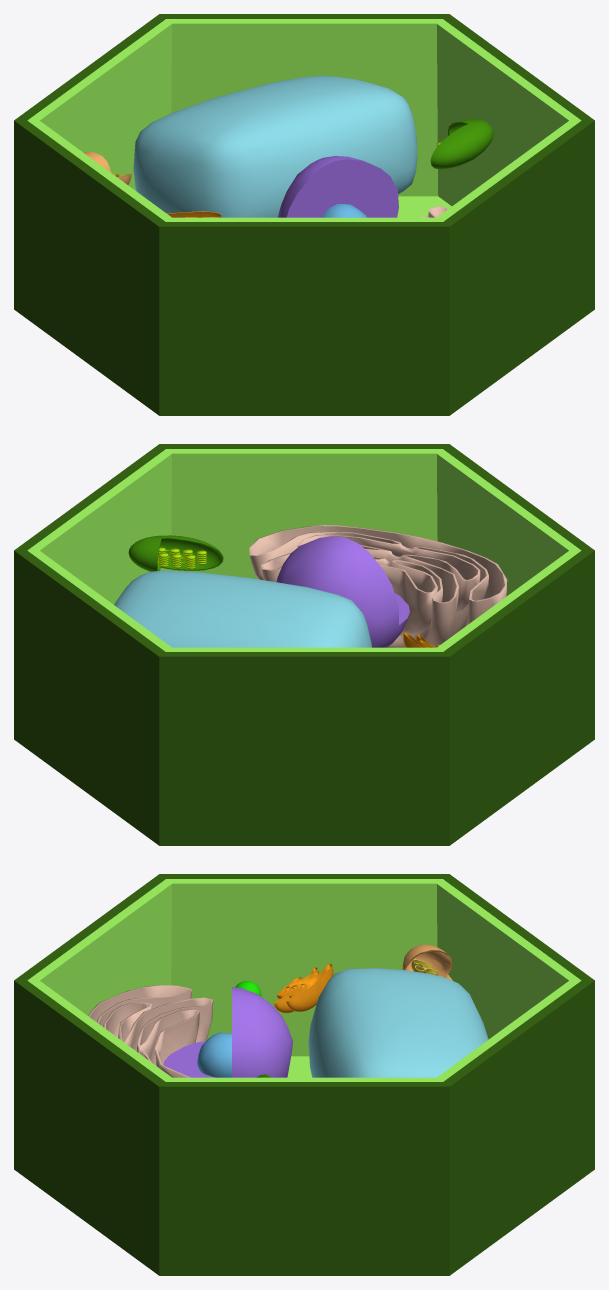
The model's file is SANTIAGO_AMORES_CEL.LULA_VEGETAL.fbx.
3 views of the same model, one above another, from view 1: azimuth 30°, elevation 25°; view 2: azimuth 150°, elevation 25°; view 3: azimuth 270°, elevation 25° (orthographic).
Visible parts, largest first — view 1: PARED CELULAR, MEMBRANA CELULAR, FUNDA GAFAS, NÚCLEO, CLOROPLASTO; view 2: PARED CELULAR, MEMBRANA CELULAR, FUNDA GAFAS, RETÍCULO ENDOPLASMÁTICO, NÚCLEO, CLOROPLASTO, iNTERIOR CLORPLASTO; view 3: PARED CELULAR, MEMBRANA CELULAR, FUNDA GAFAS, RETÍCULO ENDOPLASMÁTICO, NÚCLEO, APARATO DE GOLGI, LISOSOMA.001, MITOCONDRIA.
Part boxes in pixels (left/top/right/bottom): PARED CELULAR: left=14, top=14, right=594, bottom=415; MEMBRANA CELULAR: left=27, top=19, right=581, bottom=221; FUNDA GAFAS: left=133, top=76, right=417, bottom=217; NÚCLEO: left=278, top=156, right=398, bottom=217; CLOROPLASTO: left=430, top=119, right=493, bottom=169; PARED CELULAR: left=14, top=444, right=594, bottom=845; MEMBRANA CELULAR: left=27, top=449, right=581, bottom=651; FUNDA GAFAS: left=114, top=570, right=371, bottom=647; RETÍCULO ENDOPLASMÁTICO: left=249, top=525, right=507, bottom=647; NÚCLEO: left=276, top=536, right=409, bottom=647; CLOROPLASTO: left=128, top=535, right=223, bottom=571; iNTERIOR CLORPLASTO: left=157, top=547, right=206, bottom=569; PARED CELULAR: left=14, top=874, right=594, bottom=1275; MEMBRANA CELULAR: left=27, top=879, right=581, bottom=1081; FUNDA GAFAS: left=308, top=968, right=488, bottom=1077; RETÍCULO ENDOPLASMÁTICO: left=88, top=985, right=213, bottom=1077; NÚCLEO: left=163, top=987, right=292, bottom=1077; APARATO DE GOLGI: left=273, top=964, right=333, bottom=1013; LISOSOMA.001: left=197, top=1032, right=231, bottom=1077; MITOCONDRIA: left=402, top=944, right=452, bottom=980.
Bounding box in the file's own units: 132 × 54.78 × 153.
